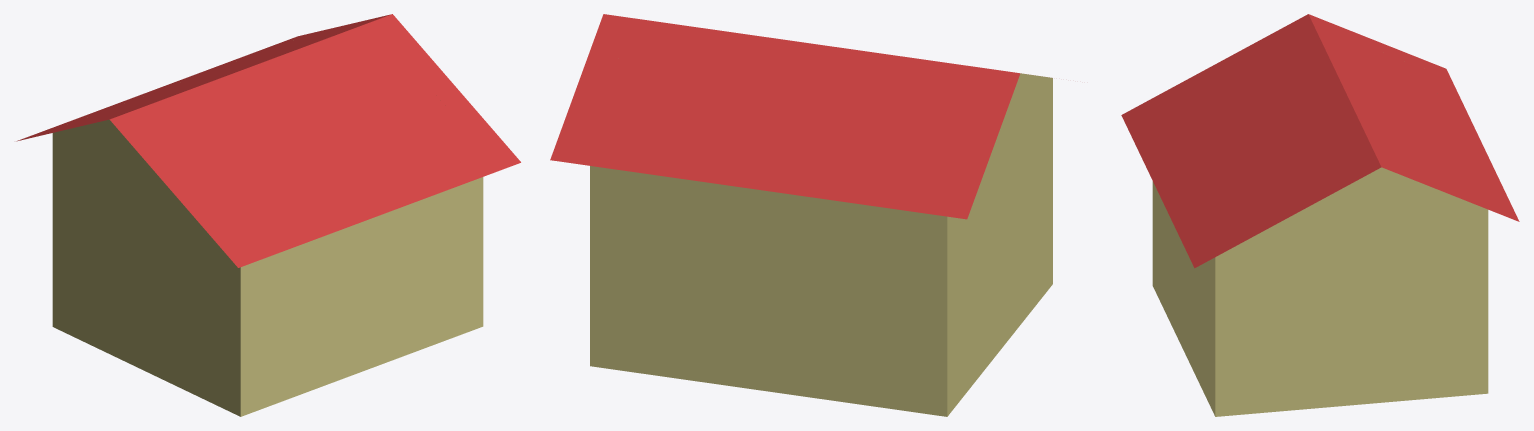
The picture shows the model from 3 angles, left to right: view 1: azimuth 30°, elevation 25°; view 2: azimuth 150°, elevation 25°; view 3: azimuth 270°, elevation 25°; orthographic projection. The views are drawn at different scales.
Bounding box in the file's own units: 16.14 × 15.01 × 10.26.
